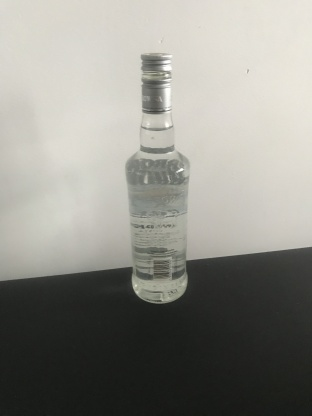nakretka: (139, 53, 173, 114)
